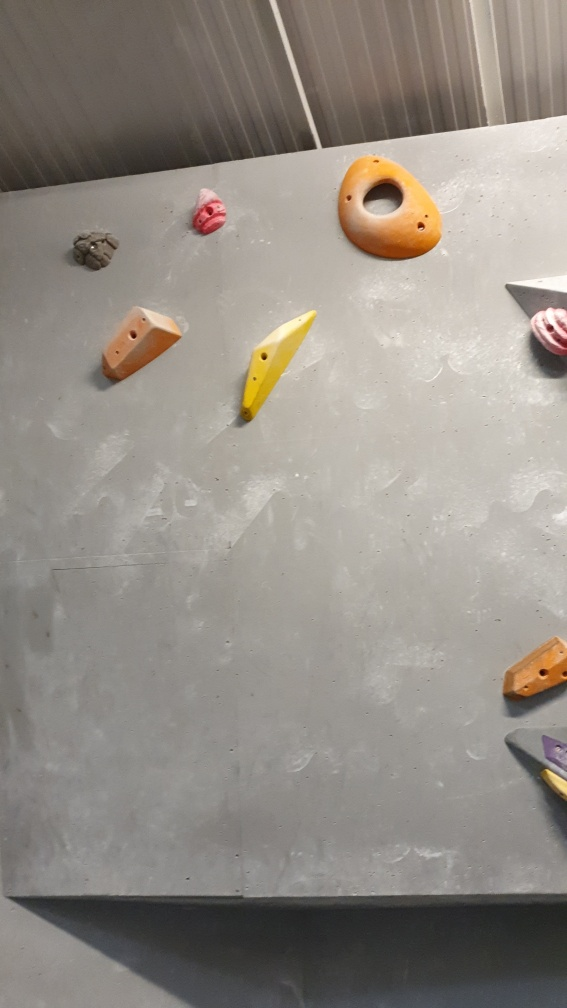Jug: (185, 182, 227, 240), (71, 231, 121, 271), (532, 303, 567, 354)
Pinch: (241, 309, 316, 422), (98, 303, 183, 382), (498, 632, 567, 709)
Pocket: (333, 153, 445, 262)
